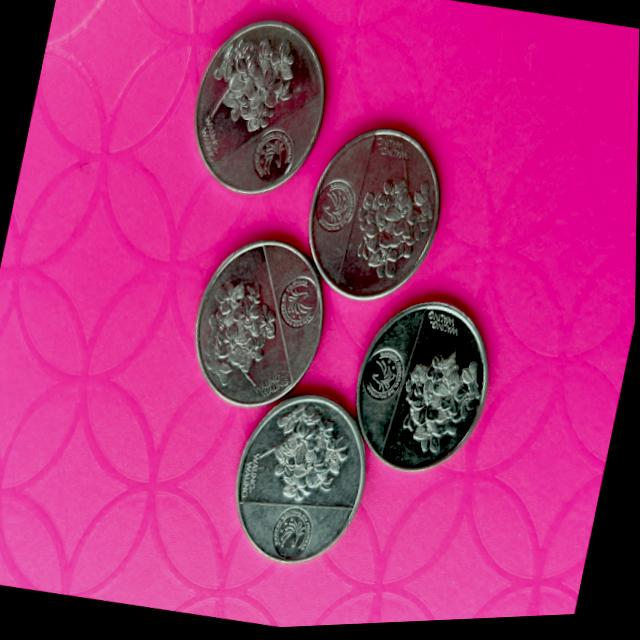1_New_Back: (207, 21, 303, 144), (352, 165, 440, 297), (202, 269, 289, 393), (401, 344, 489, 466), (268, 401, 360, 511)
